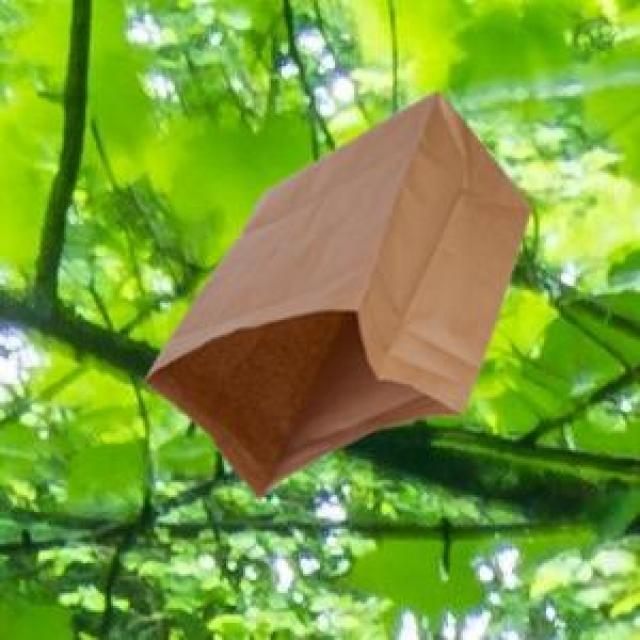paper: (141, 88, 527, 493)
